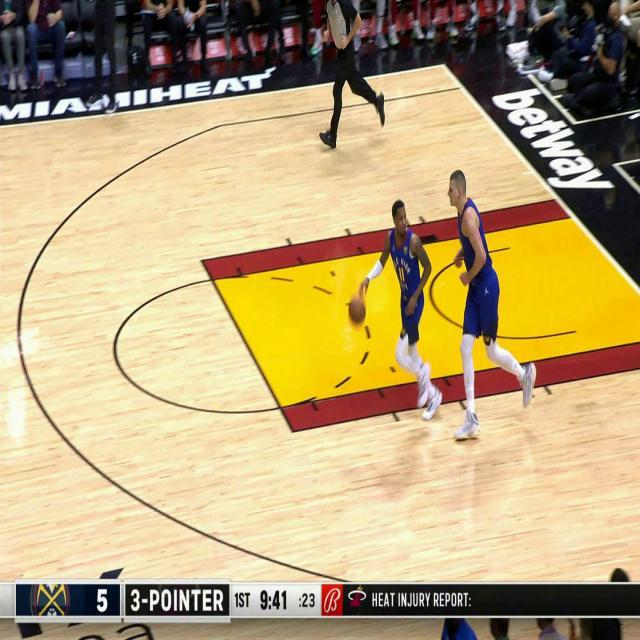rim: (348, 297, 366, 325)
